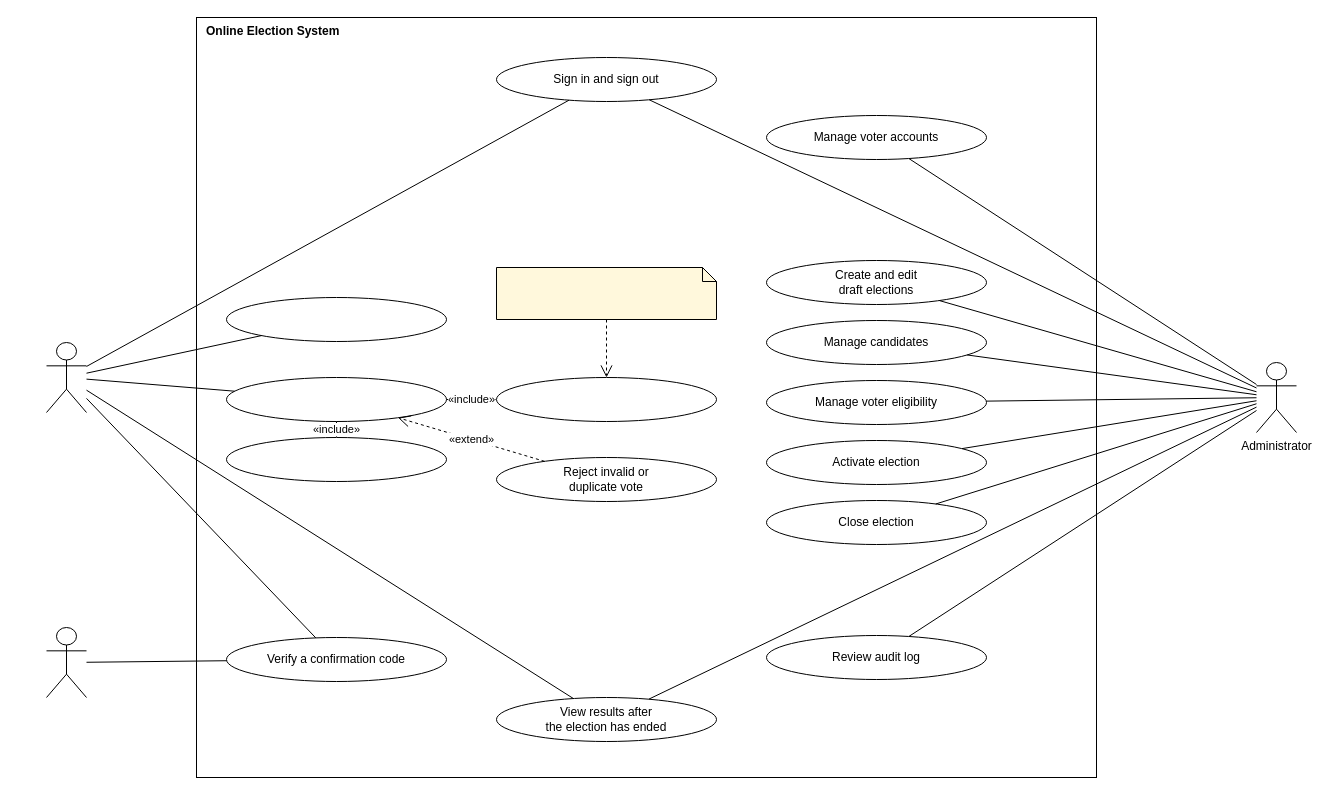
The diagram is 1329 pixels wide and 795 high, and some of its shapes have lost their labels. The box of each missing label's shape, as (x1, y1, x2, y2) in pixels:
Anonymous visitor: (46, 626, 86, 698)
Check eligibility and voting window: (496, 376, 716, 422)
Receive confirmation code (shown once): (226, 436, 446, 482)
See my elections and participation status: (226, 296, 446, 342)
The server clock decides the voting window (FR-07).: (496, 266, 716, 320)
Vote for one candidate: (226, 376, 446, 422)
Voter: (46, 342, 86, 412)
